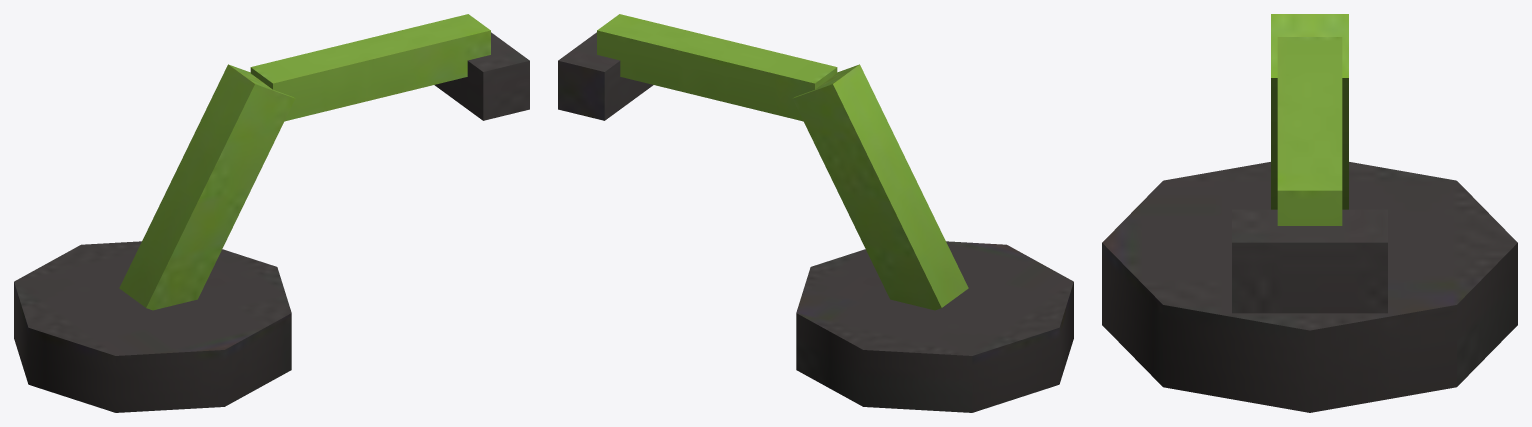
File: bulk-inserter.glb
The picture shows the model from 3 angles, left to right: view 1: azimuth 30°, elevation 25°; view 2: azimuth 150°, elevation 25°; view 3: azimuth 270°, elevation 25°; orthographic projection. The views are drawn at different scales.
Visible parts, largest first — view 1: bulk-inserter; view 2: bulk-inserter; view 3: bulk-inserter.
Part boxes in pixels (bbox=[...]): bulk-inserter: bbox=[14, 14, 529, 412]; bulk-inserter: bbox=[558, 14, 1073, 412]; bulk-inserter: bbox=[1102, 14, 1517, 412].
Bounding box in the file's own units: 0.305 × 0.1587 × 0.16.
1 material, 1 textured.
